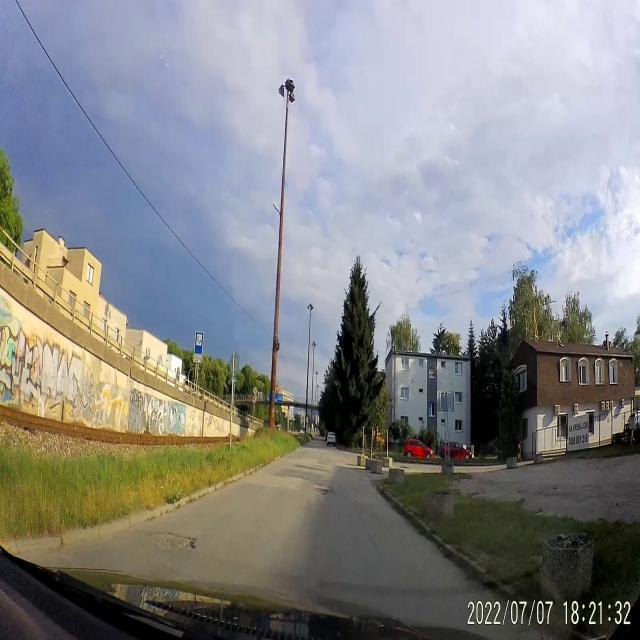Pothole: (147, 527, 202, 560), (312, 476, 338, 502)
